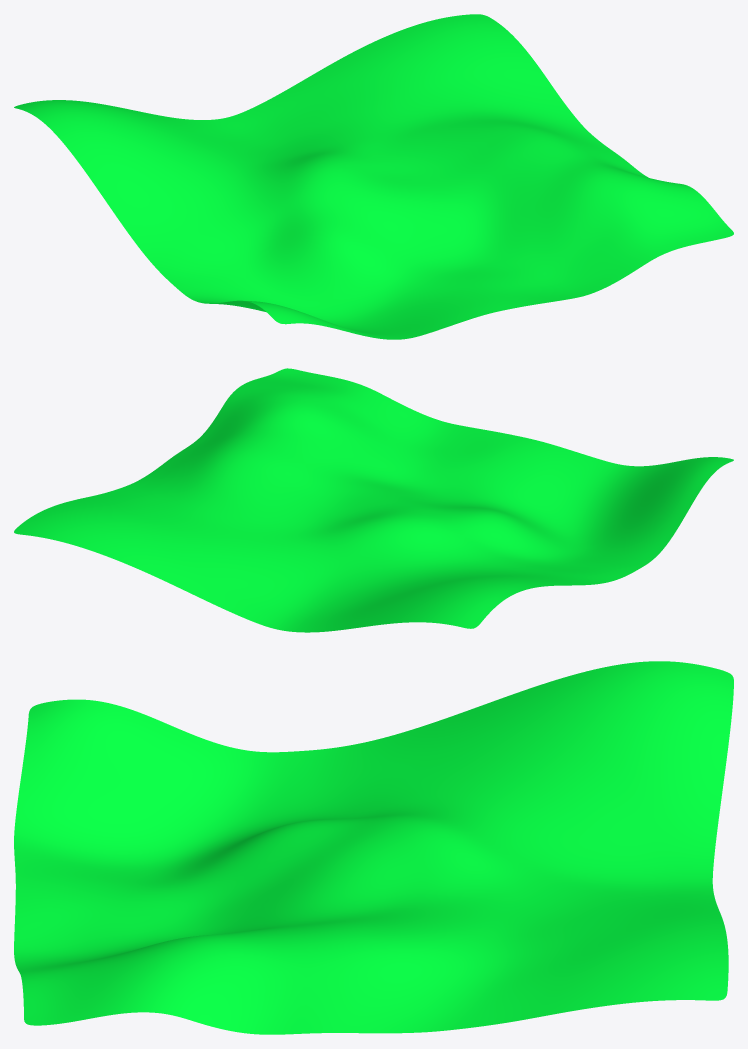
The model's file is couch_haven.glb.
3 views of the same model, one above another, from view 1: azimuth 30°, elevation 25°; view 2: azimuth 150°, elevation 25°; view 3: azimuth 270°, elevation 25° (orthographic). The views are drawn at different scales.
Parts seen in each view (by area): view 1: Plane.004; view 2: Plane.004; view 3: Plane.004.
Part boxes in pixels (left/top/right/bottom): Plane.004: left=14, top=14, right=733, bottom=339; Plane.004: left=14, top=368, right=733, bottom=632; Plane.004: left=14, top=661, right=733, bottom=1034.
Bounding box in the file's own units: 194 × 37.09 × 194.
